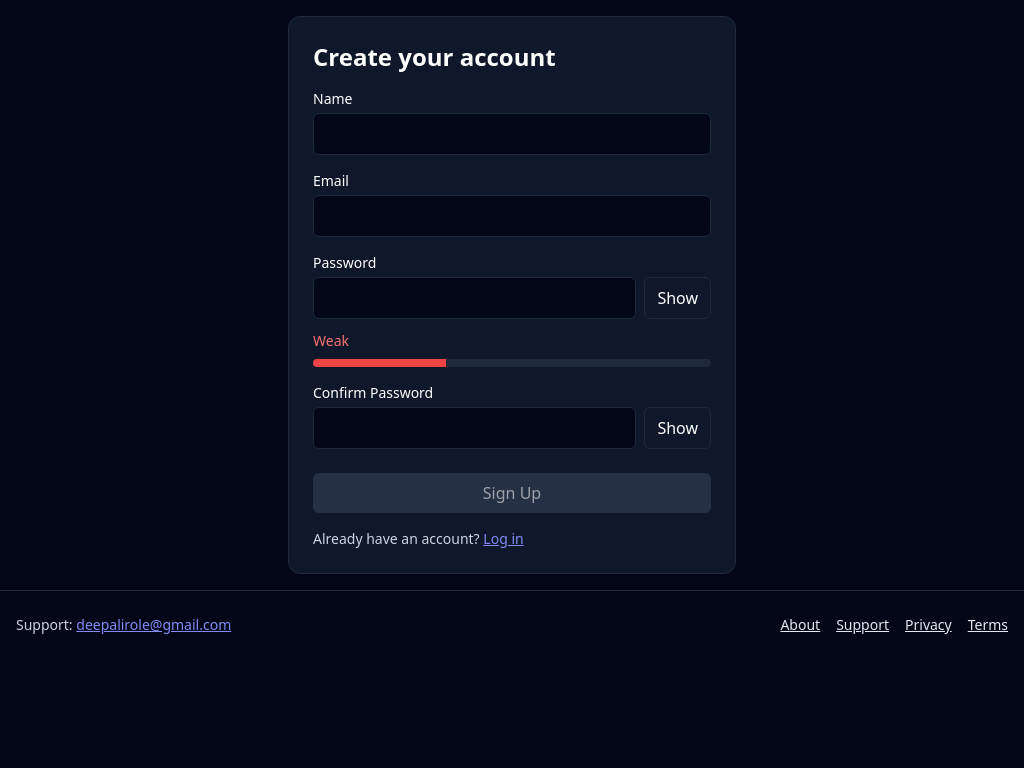
Test: Auth pages › TEST 8.3 — Passwords must match
The image size is (1024, 768).
Type "SecureP@ss1" into the password field labelled "Password". click: (475,298)
box: [313, 277, 636, 319]
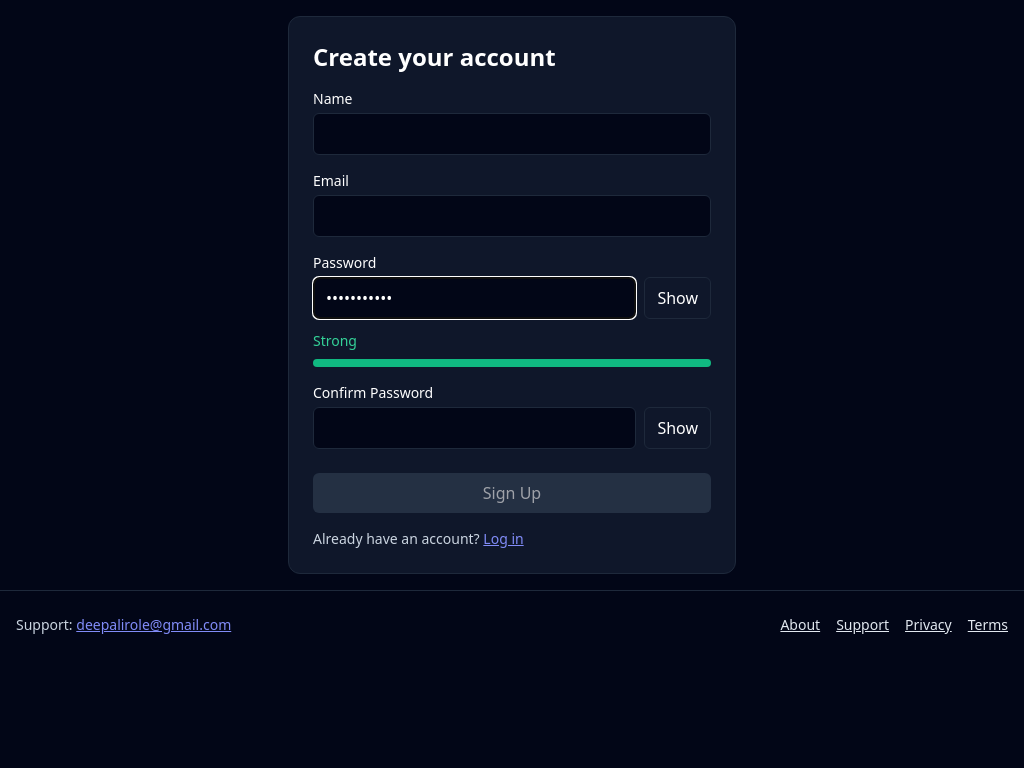
Type "Different@1" into the password field labelled "Confirm Password". click: (475,428)
box: [313, 407, 636, 449]
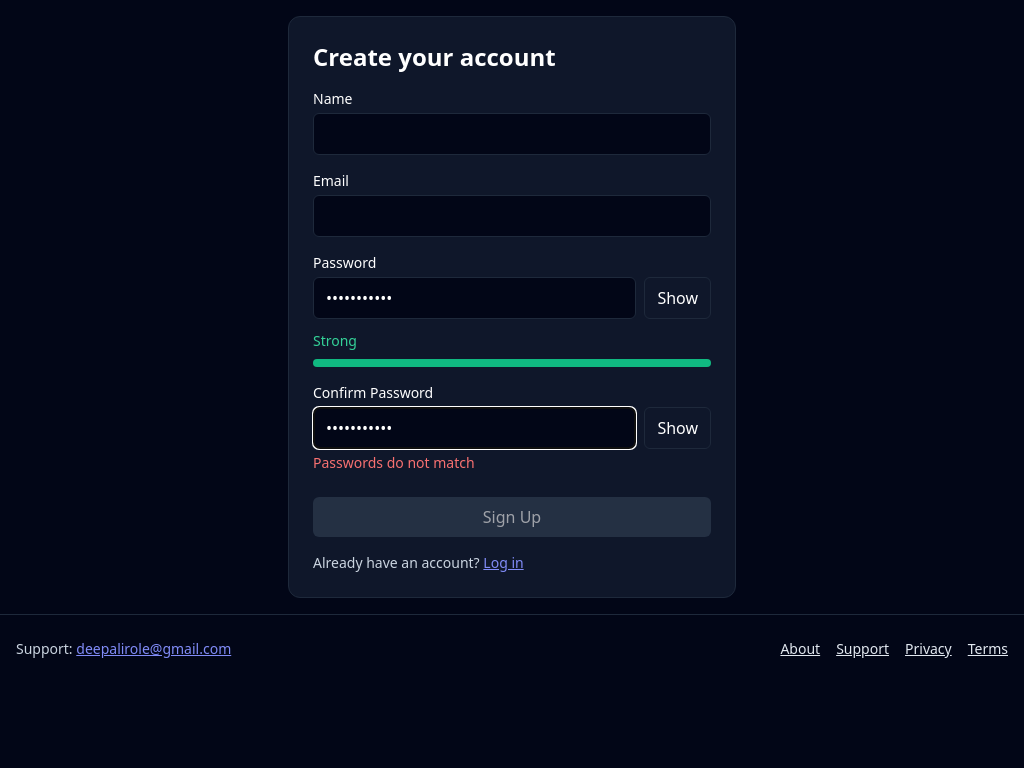
Expected: the button "Sign Up" is disabled, [313, 497, 711, 537]
Expected: the text "Passwords do not match" is shown, [313, 453, 475, 472]
